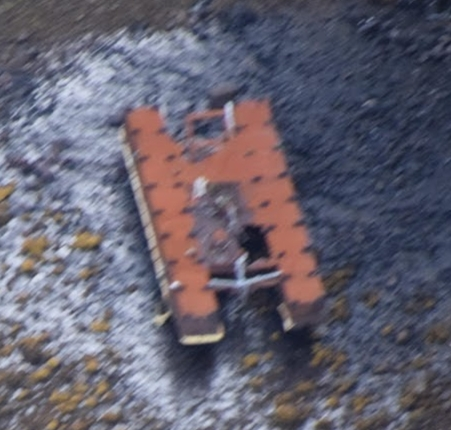cuboid: (106, 87, 336, 350)
